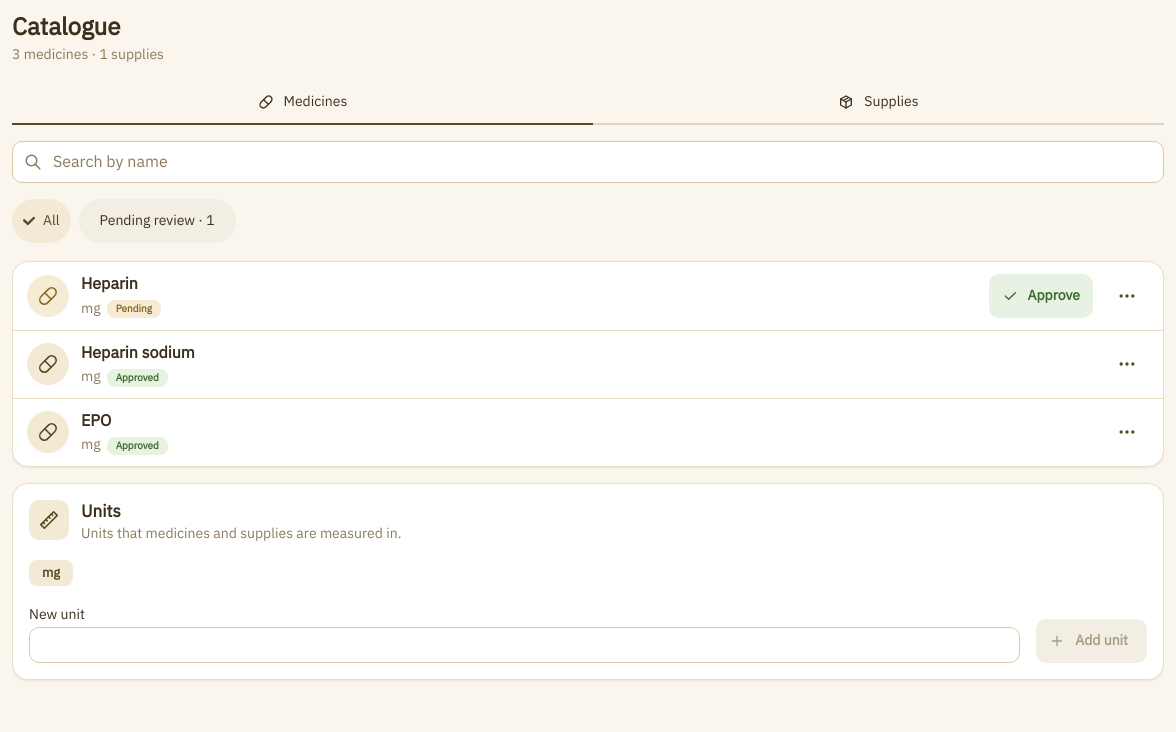
CatalogPage › filters the list by the search box and the pending chip
The width and height of the screenshot is (1176, 732).
Expected: the text "EPO" is shown, [81,409,111,433]
Type "hep" into the search field labelled "Search by name". click: point(588, 162)
box: [12,142,1164,184]
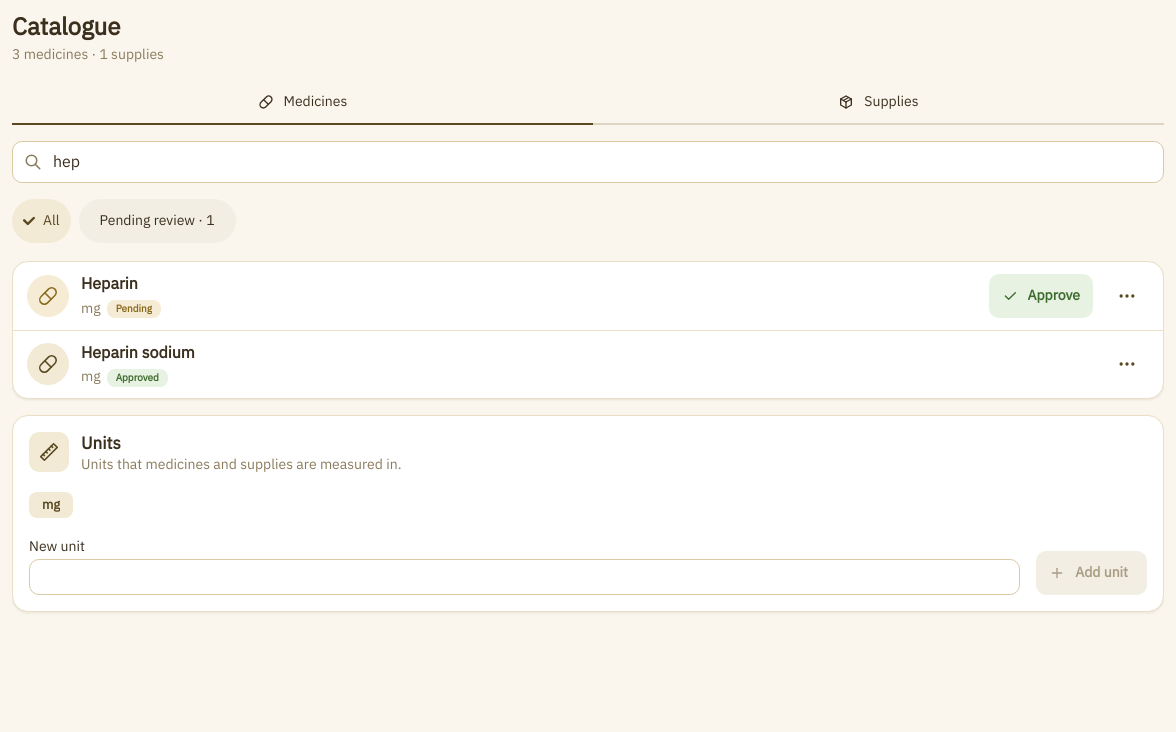
Click the radio button with aria-label "Pending review: 1". click: point(157, 222)
box: [78,200,236,244]
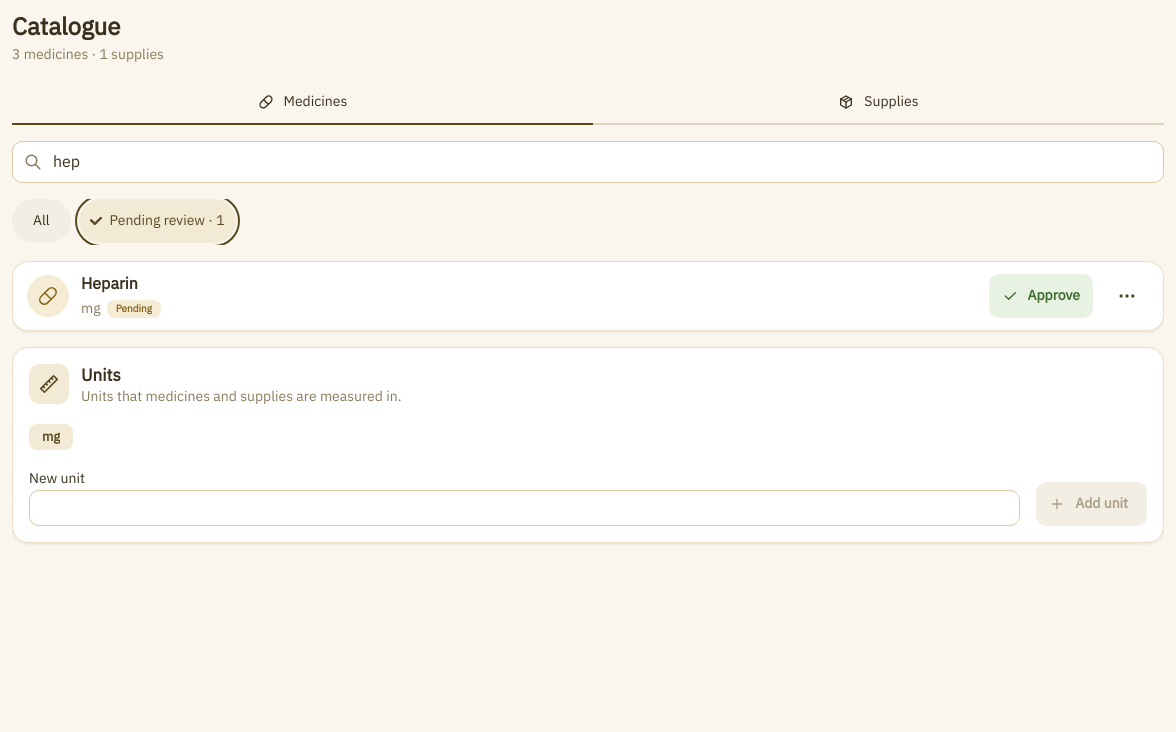
Replace the text in the search field named "Search by name" with "zzz". click: point(588, 162)
box: [12,142,1164,184]
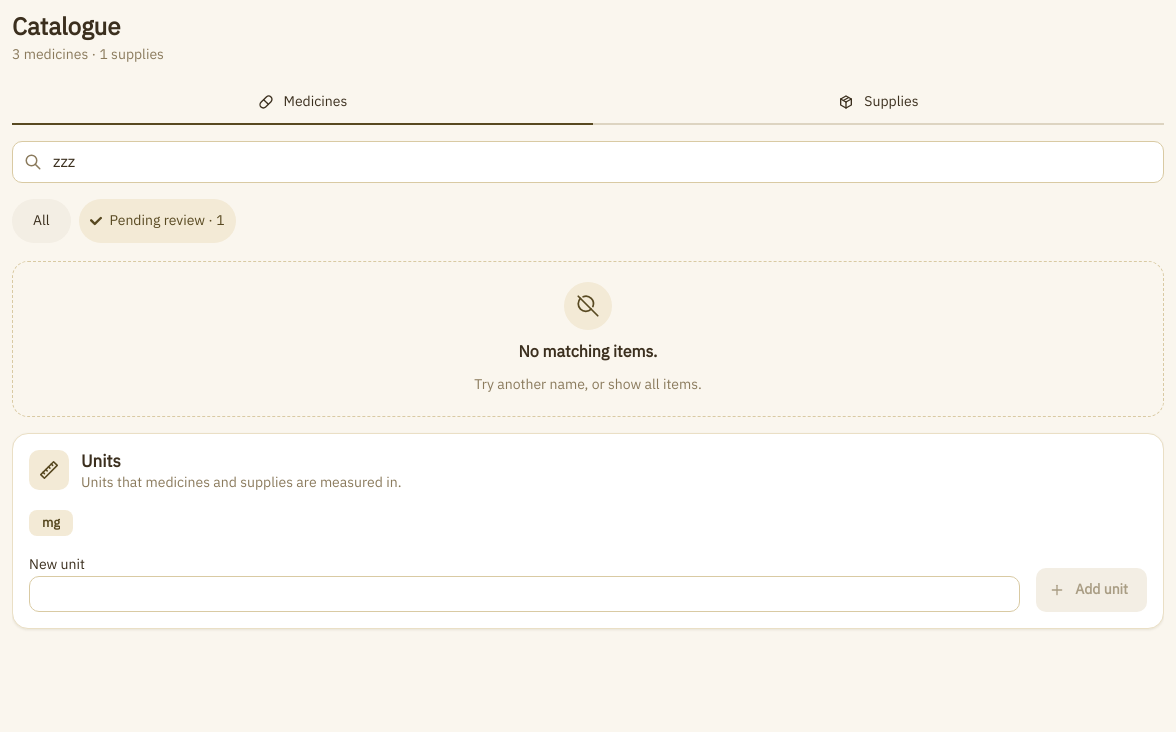
Result: the text "No matching items." is shown at [518,340,657,365]
